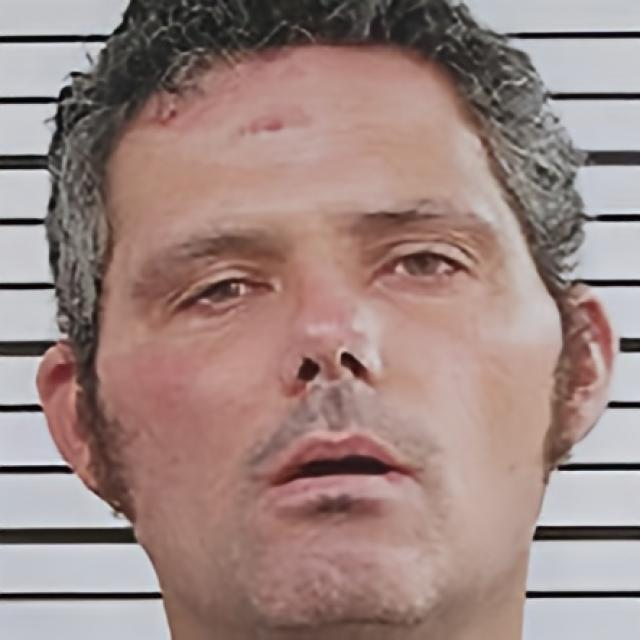neutral: (94, 40, 566, 640)
